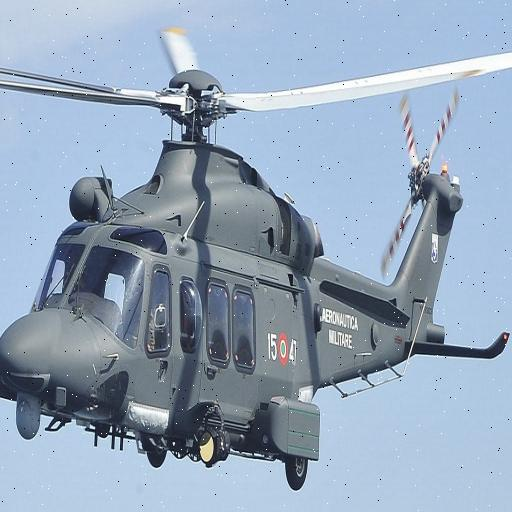helicopter: (1, 10, 512, 500)
